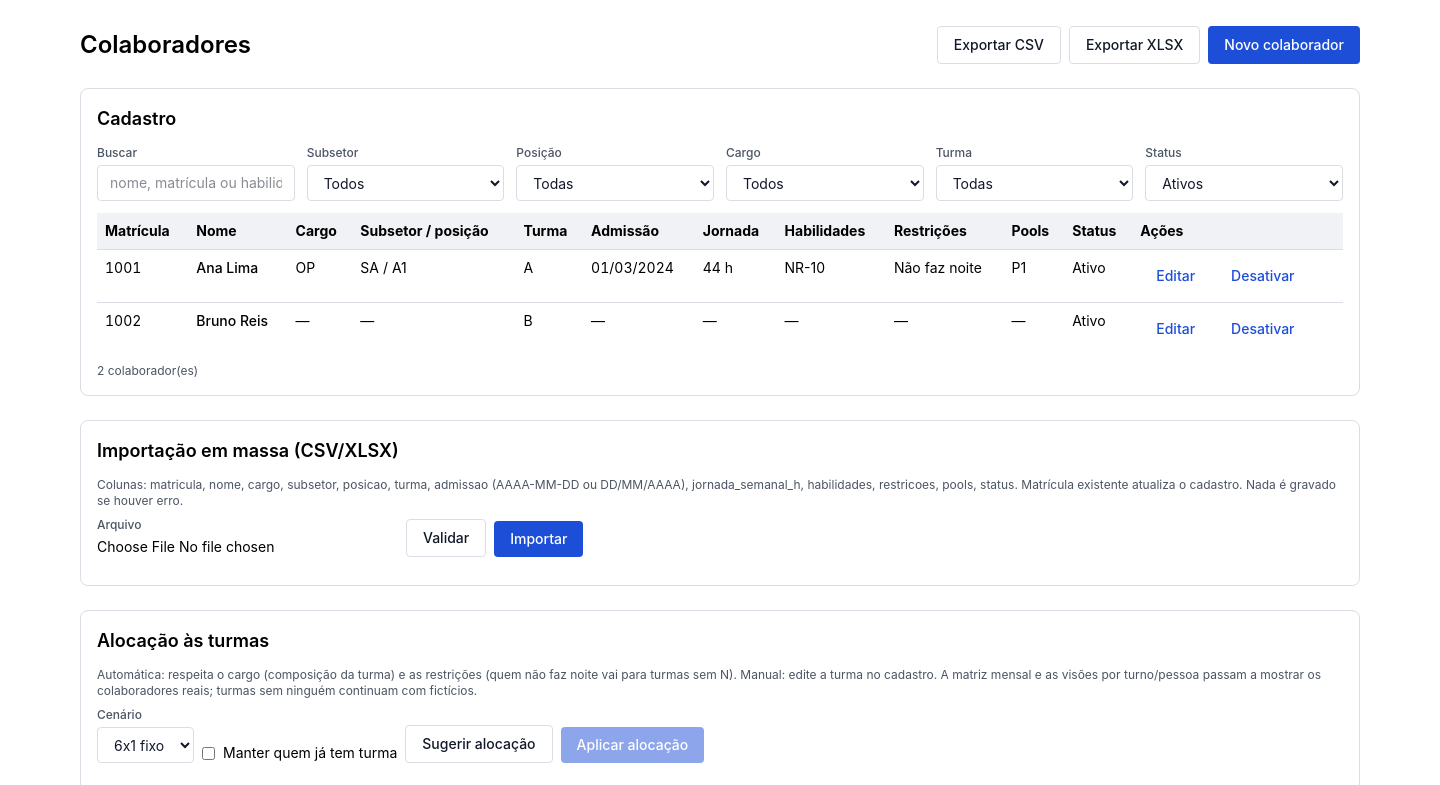
it: Tela de colaboradores (v3.8) › alocação automática: sugere por turma e aplica
What coordinates should you click on to do the following:
click the button "Sugerir alocação"
I would click on:
 (479, 744)
Its box is left=405, top=725, right=553, bottom=763.
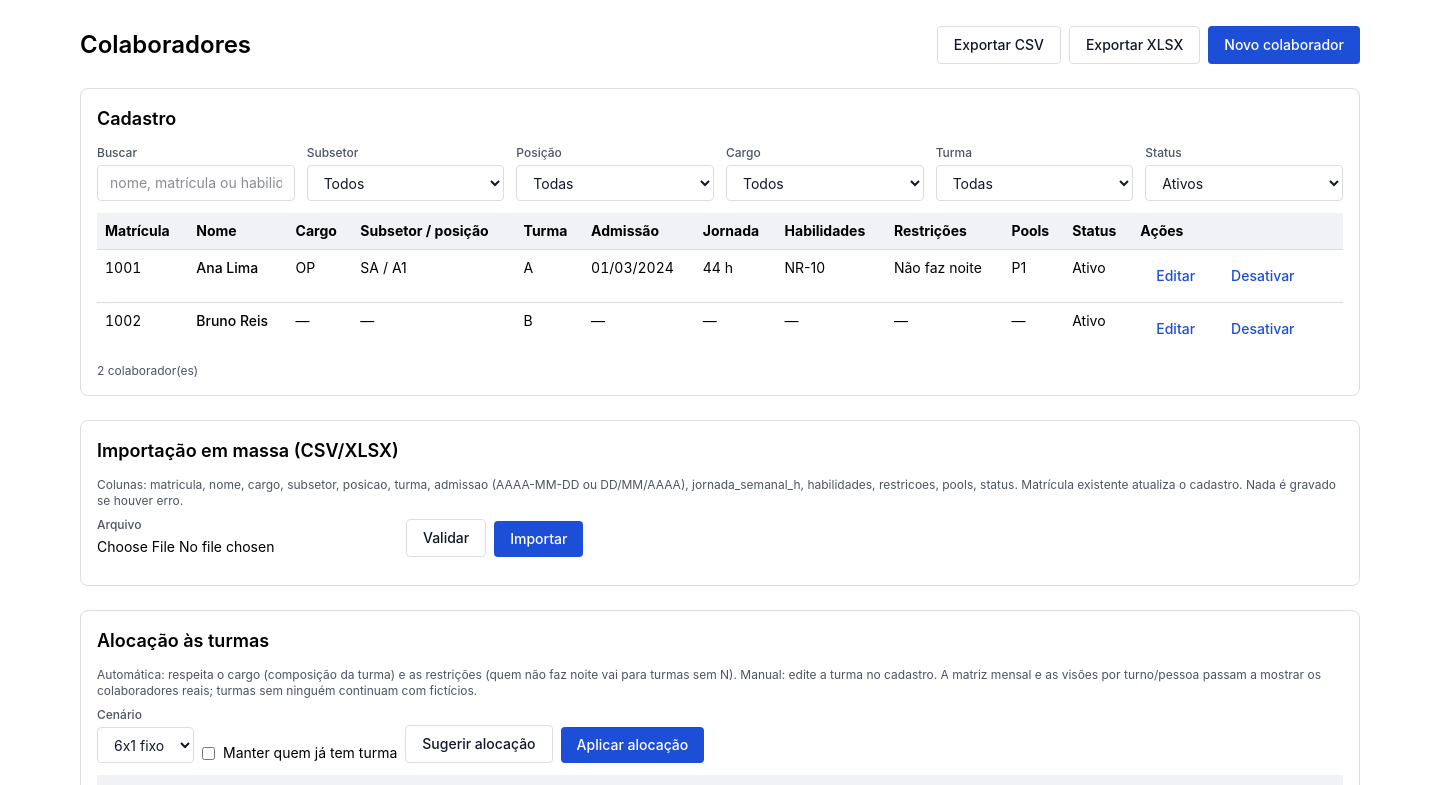
What coordinates should you click on to do the following:
click the button "Aplicar alocação"
I would click on:
 (632, 745)
Its box is left=561, top=727, right=704, bottom=763.
(page scrolled)
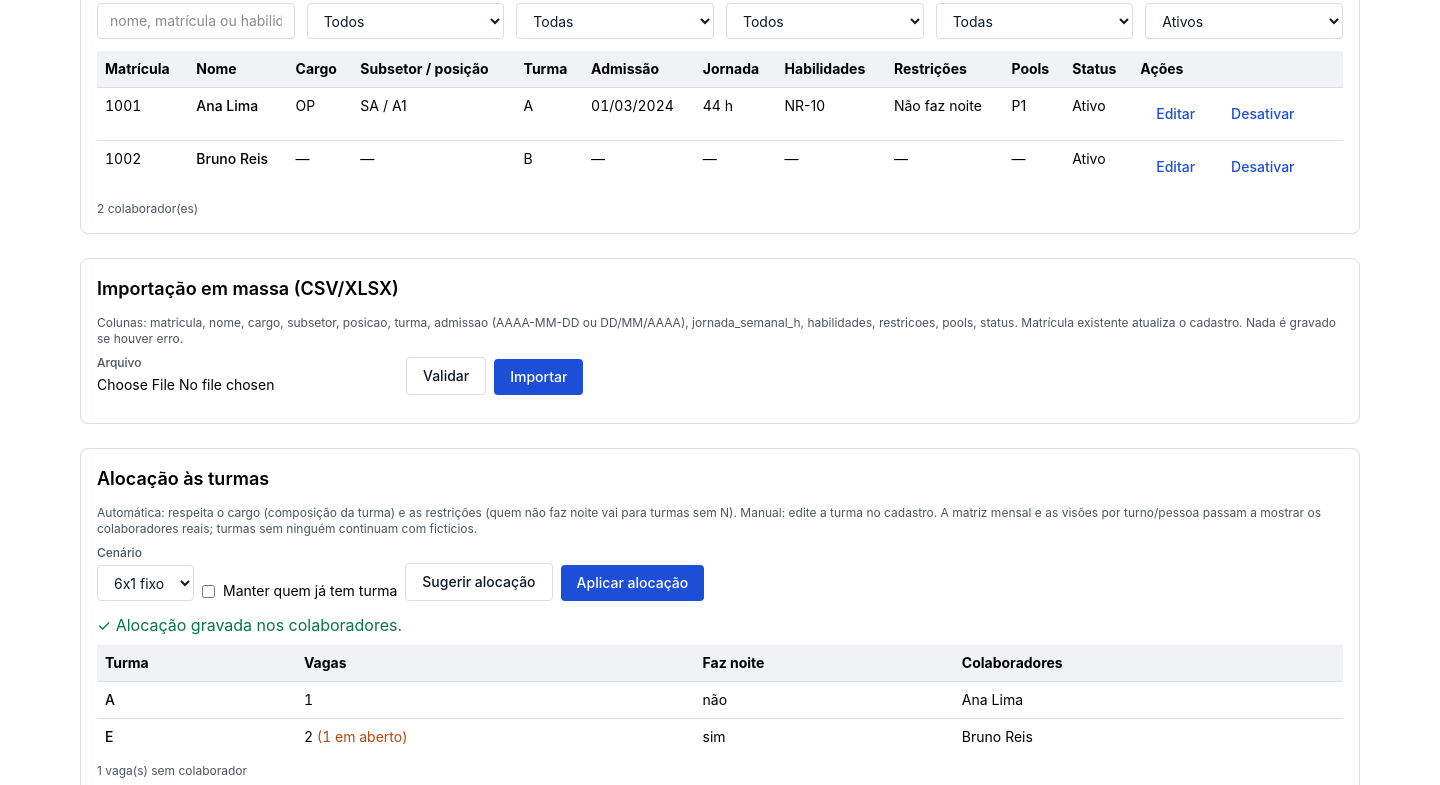
Now the text "✓ Alocação gravada nos colaboradores." is shown, box left=97, top=615, right=402, bottom=635
